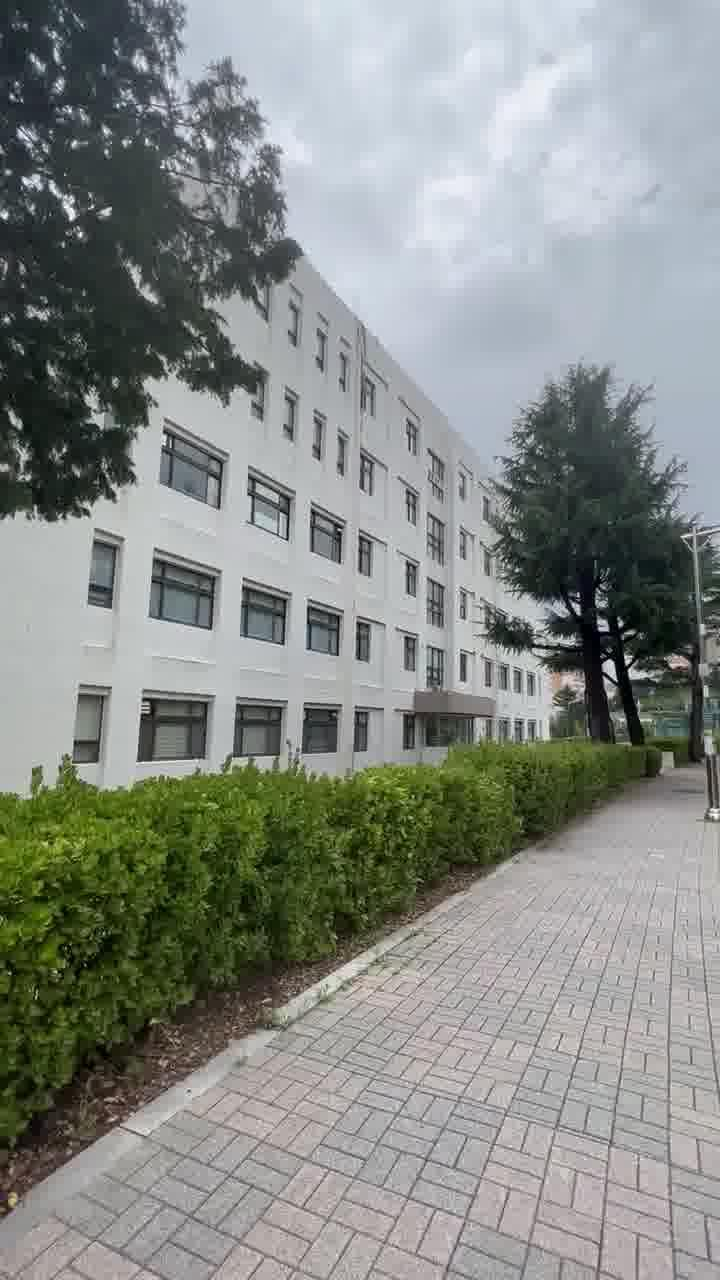building: (176, 256, 502, 750)
